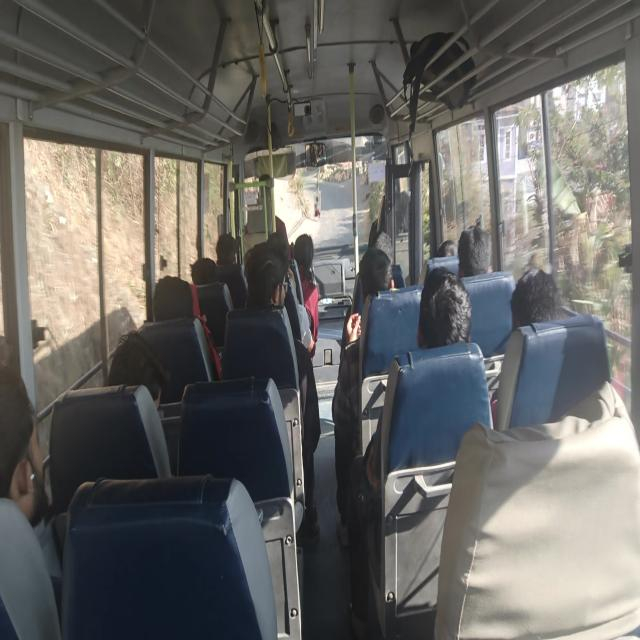person: (0, 374, 39, 555), (514, 269, 579, 351), (423, 273, 487, 352), (115, 321, 161, 411), (243, 235, 296, 308), (363, 254, 401, 312), (163, 272, 194, 324), (460, 235, 495, 274), (186, 256, 218, 288), (294, 226, 322, 255), (370, 226, 390, 254), (434, 245, 457, 260), (218, 237, 237, 255), (272, 232, 290, 249)
